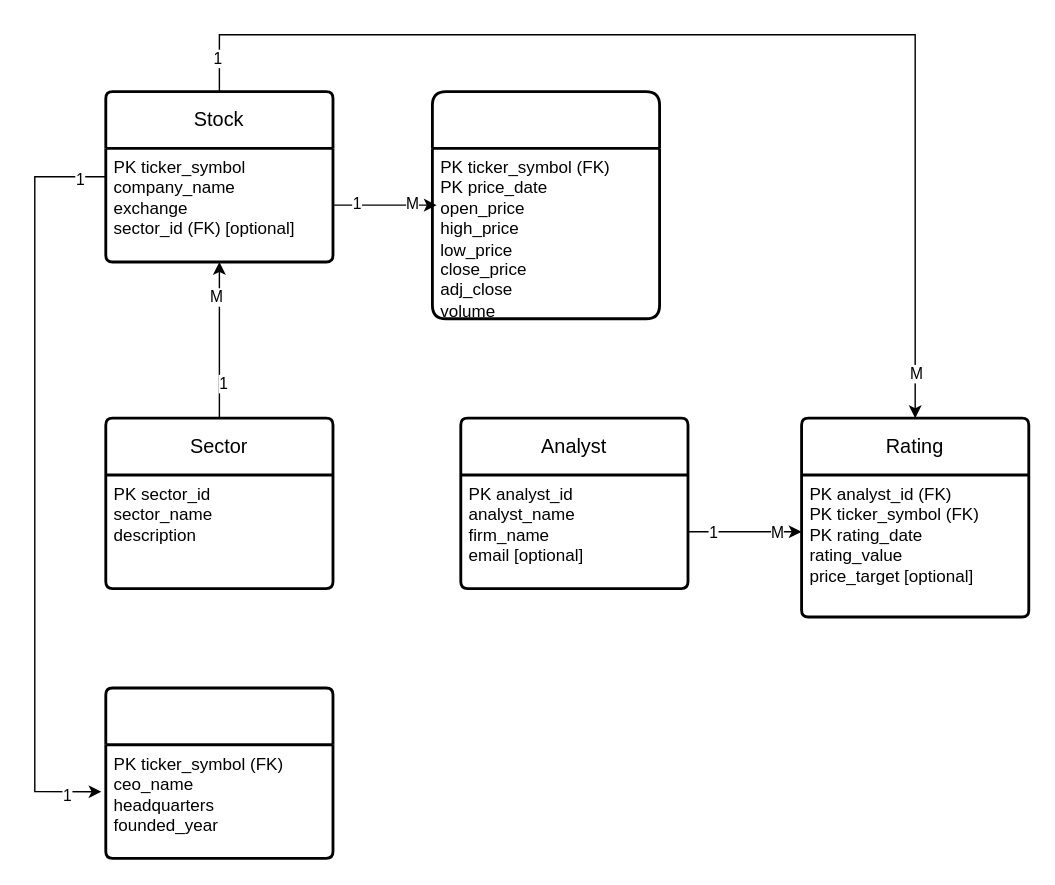
Image size: 1055x885. Some labels were removed from this diagram. The box of each missing label's shape, as (x1, y1, x2, y2) in pixels:
Company_Profile: (104, 686, 334, 859)
Stock _Price: (430, 89, 660, 320)
